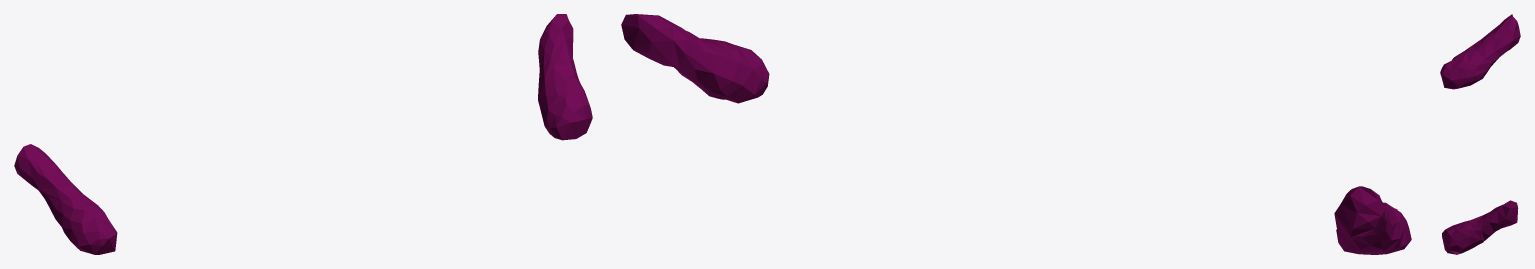
Rendered from 74-ReIP-retroinsular area, parietal part-('0.4980', '0.0000', '0.3647').obj.
3 views of the same model, side by side, from view 1: azimuth 30°, elevation 25°; view 2: azimuth 150°, elevation 25°; view 3: azimuth 270°, elevation 25° (orthographic). The views are drawn at different scales.
Bounding box in the file's own units: 206 × 29.81 × 35.88.
